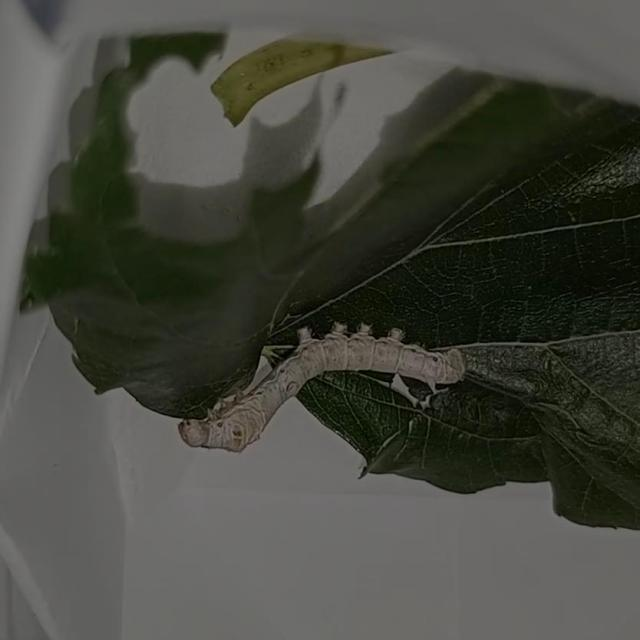Healthy: (170, 316, 472, 461)
